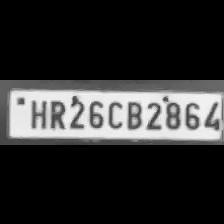2: (66, 96, 86, 130), (143, 98, 163, 130)
4: (201, 97, 221, 129)
6: (84, 97, 104, 128), (182, 98, 200, 130)
8: (162, 98, 182, 130)
B: (123, 97, 143, 129)
C: (105, 97, 123, 128)
H: (26, 96, 46, 128)
R: (46, 96, 66, 130)
